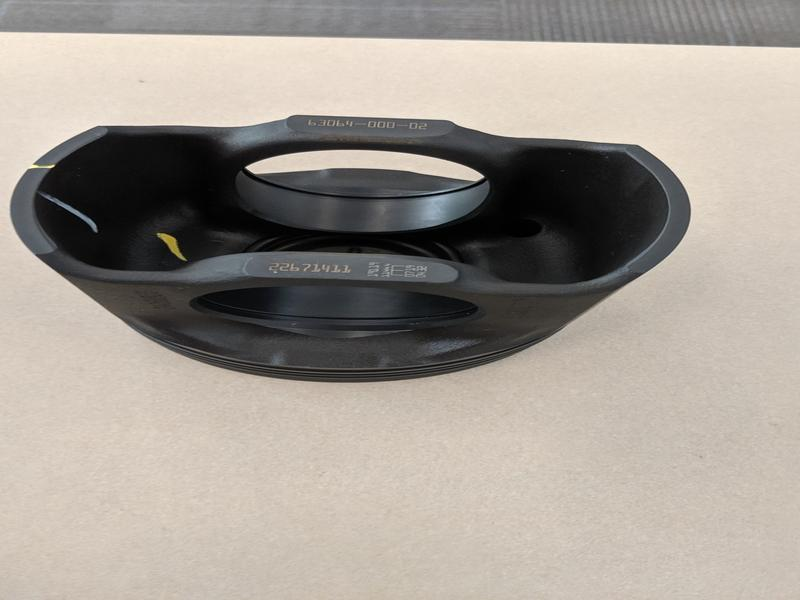piston: (8, 110, 694, 386)
